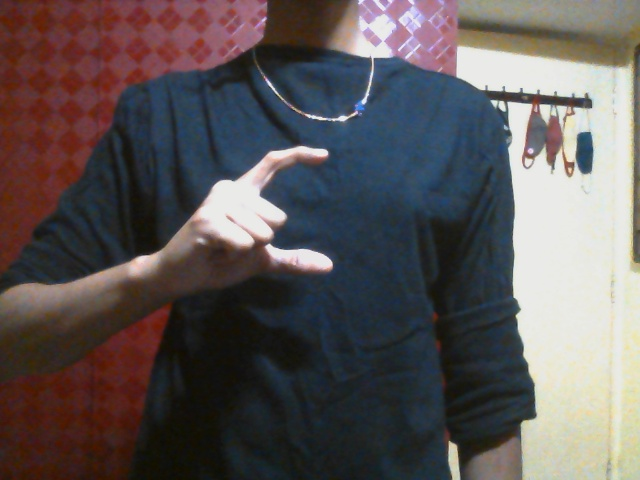C: (173, 144, 335, 298)
